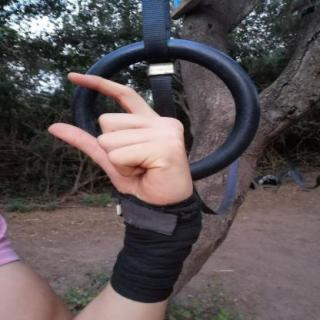DELL: (37, 65, 205, 216)
